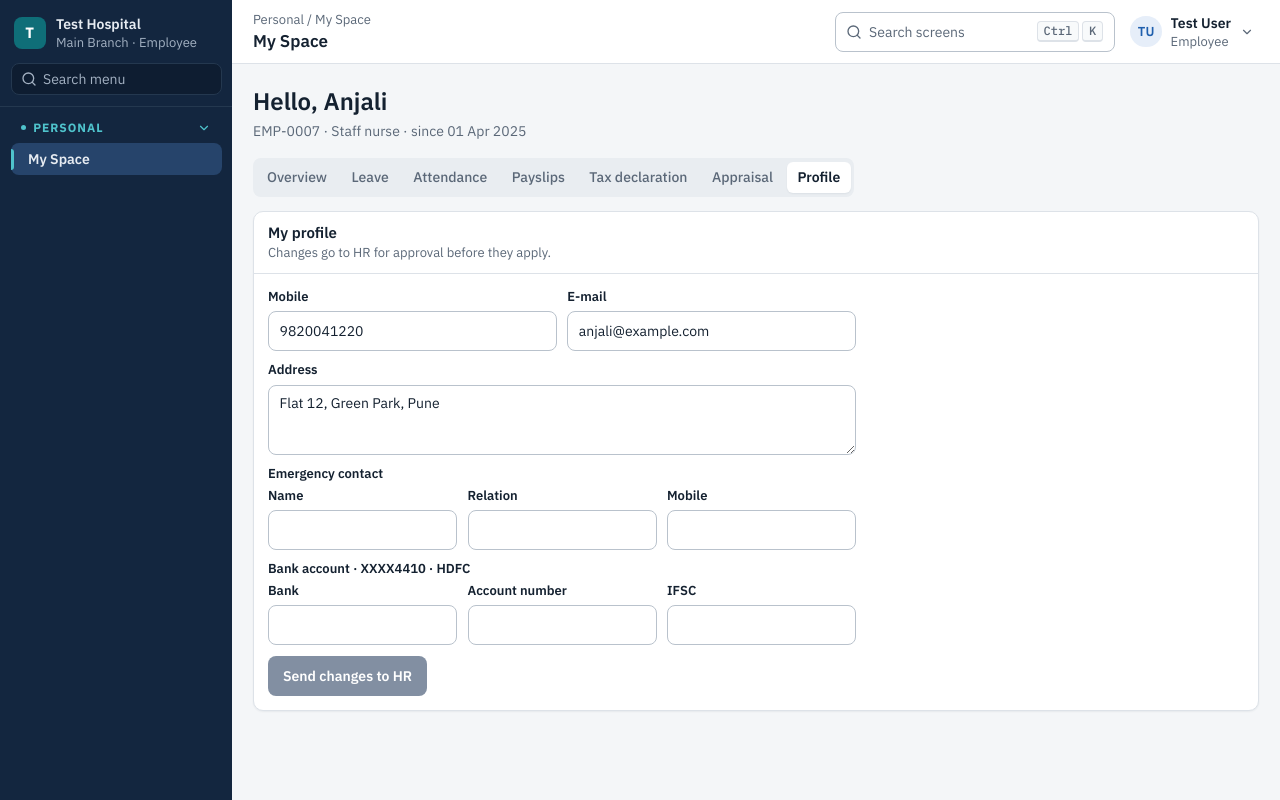
My Space: tax declaration and profile › sends only the changed details to HR
The width and height of the screenshot is (1280, 800).
Check: the heading "My profile" is shown, box [268,223,337,242]
Check: the button "Send changes to HR" is disabled, box [268,656,427,696]
Replace the text in the field labelled "Mobile" below "E-mail" with "9820041299" at (412, 331), box [268,311,557,351]
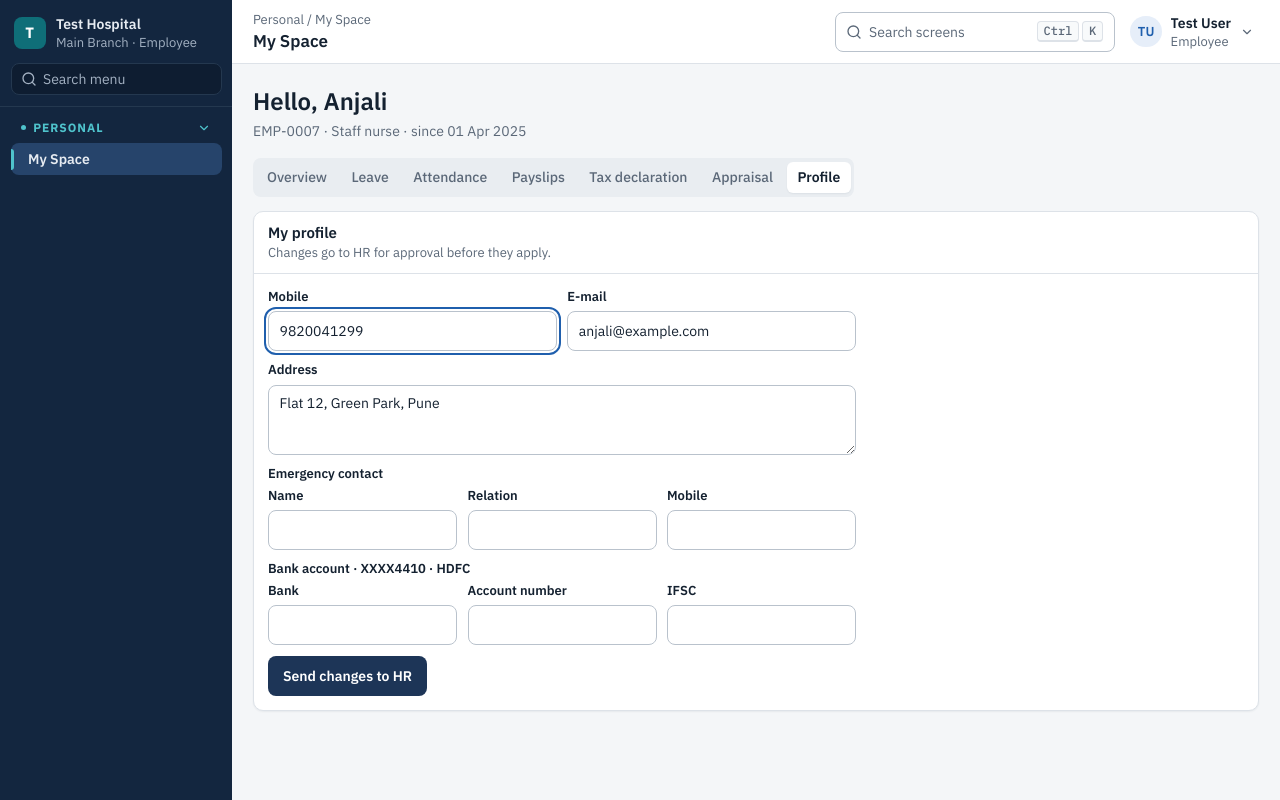
Click the button "Send changes to HR" at (348, 676), box [268,656,427,696]
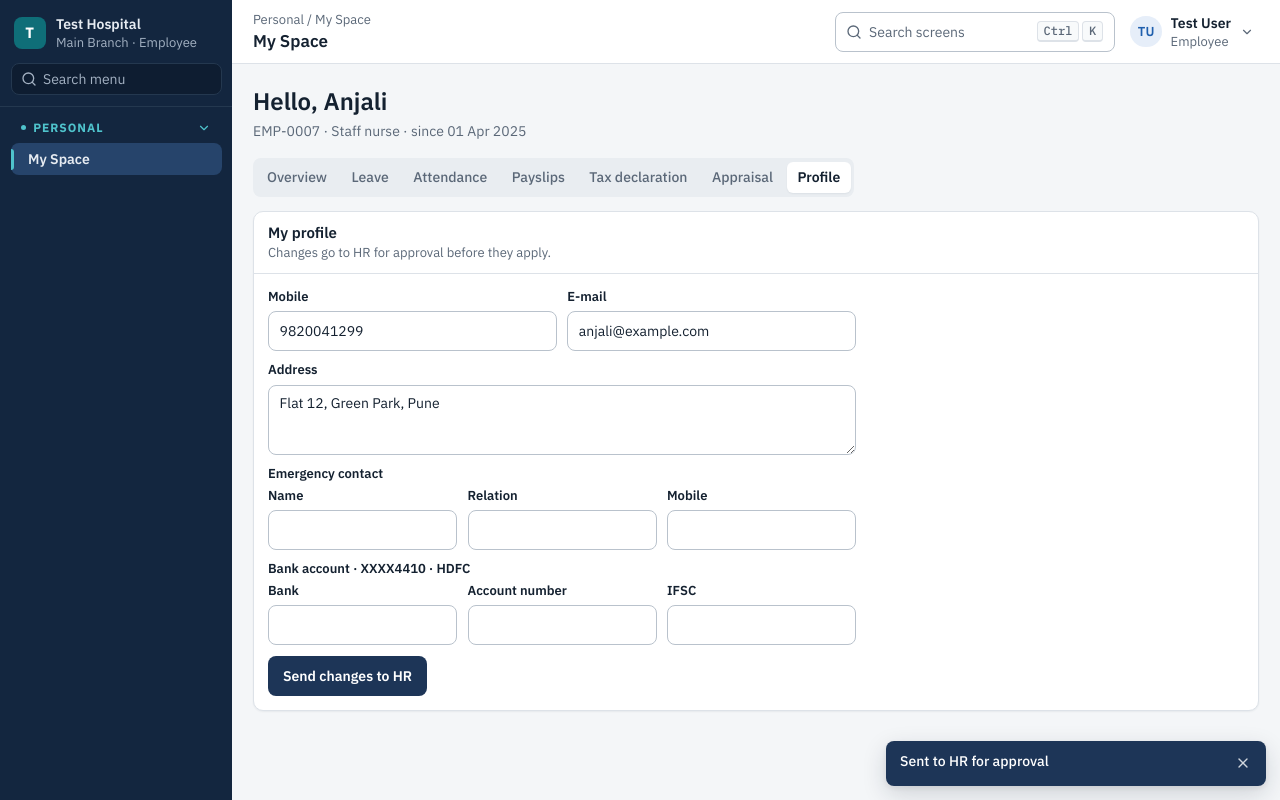
Check: the text "Sent to HR for approval" is shown, box [900,752,1049,770]
